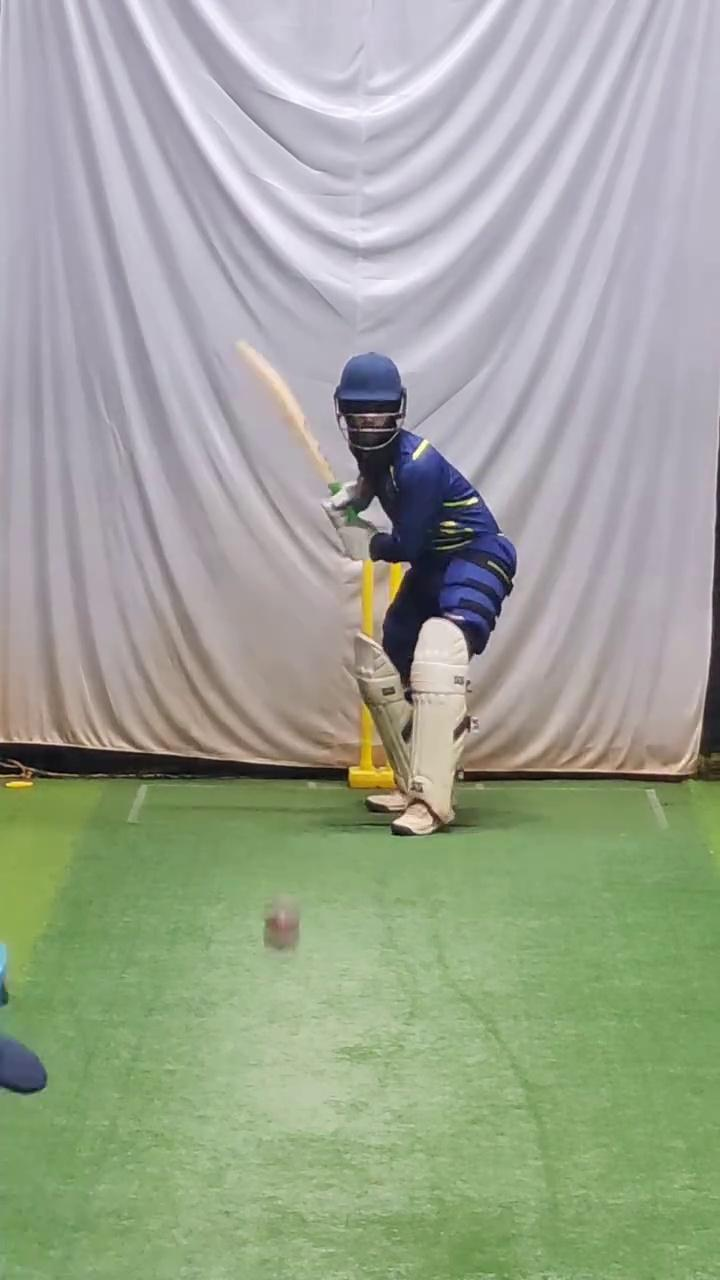bat: (233, 330, 338, 494)
